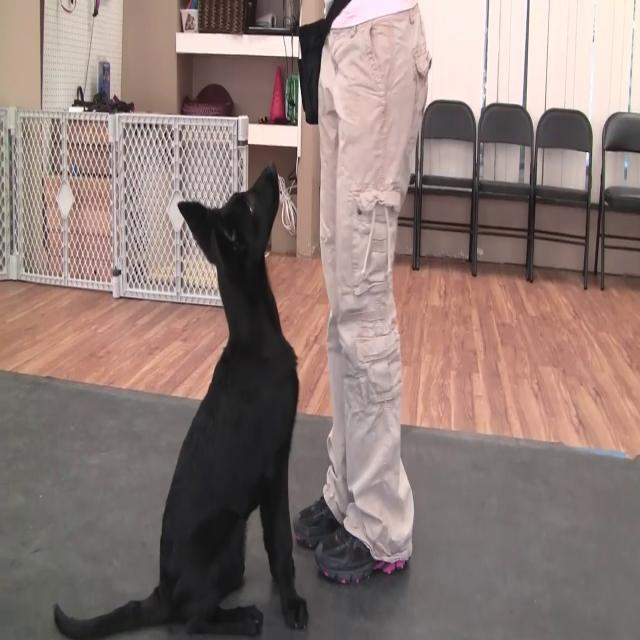Unleashed_Dog: (53, 24, 373, 640)
